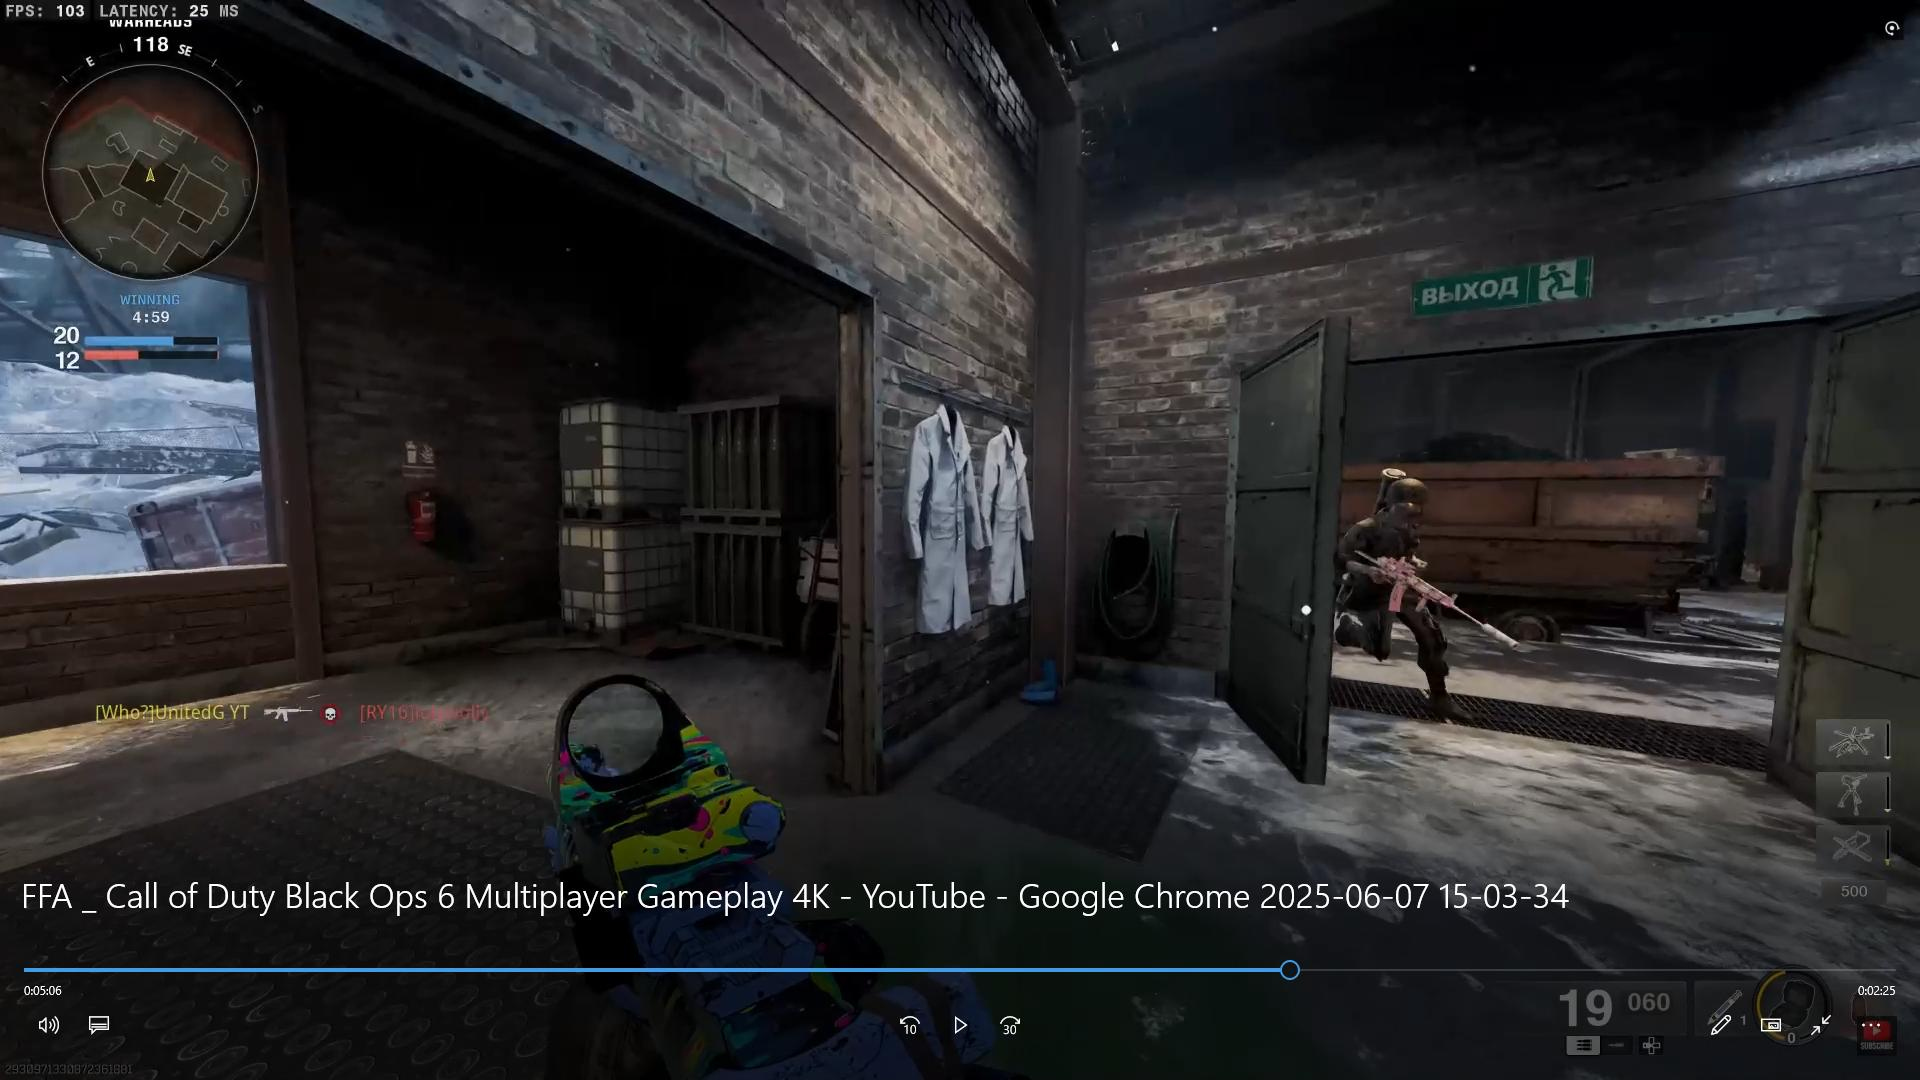Enemy: (1333, 442, 1474, 720)
